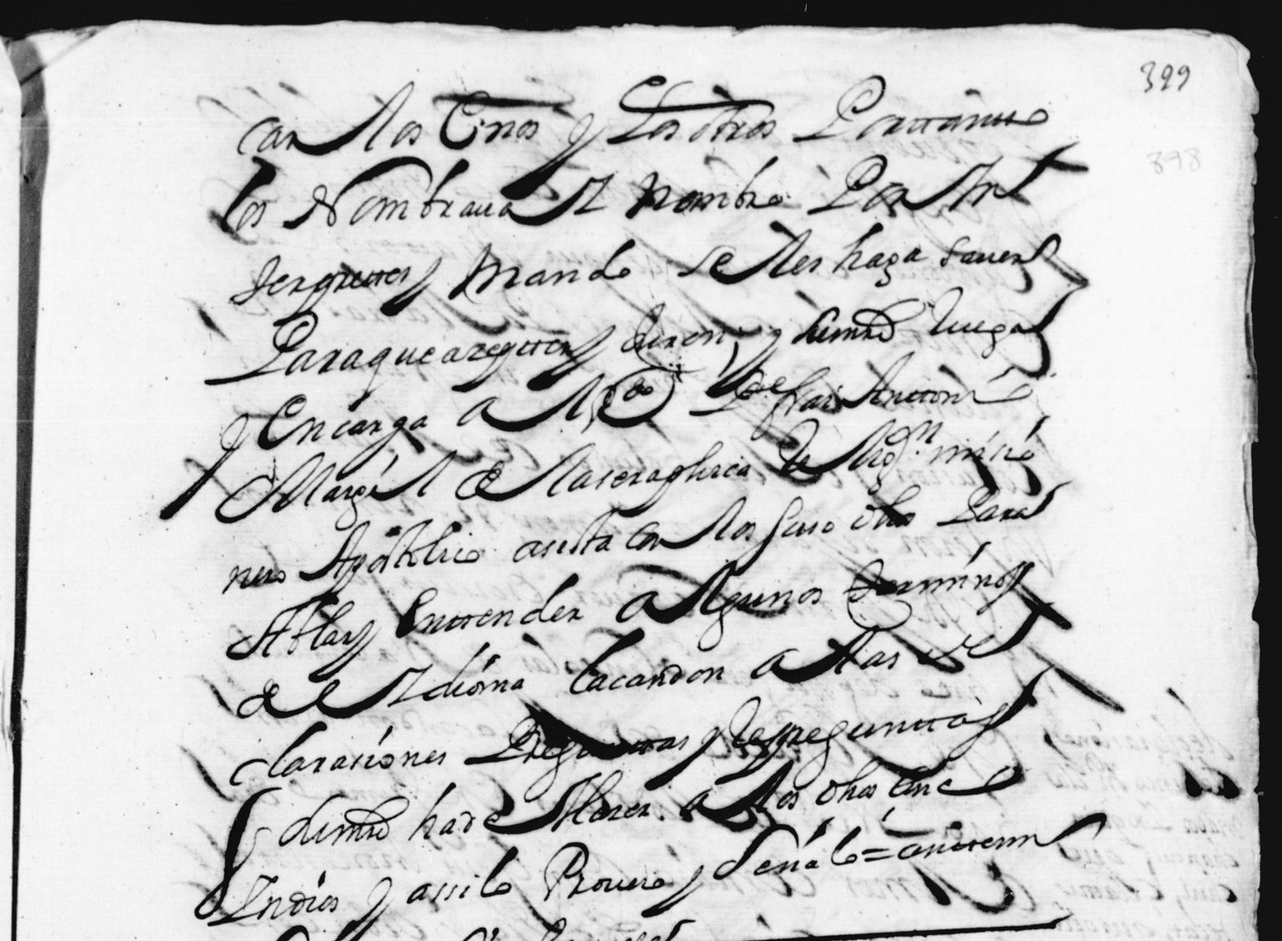lacandon: (569, 627, 724, 694)
